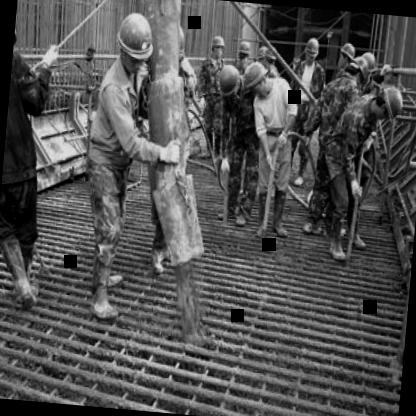helmet: (114, 9, 158, 72), (242, 60, 276, 104), (375, 84, 406, 128), (216, 63, 244, 104), (11, 0, 26, 64), (346, 54, 372, 88), (303, 34, 322, 67), (338, 40, 357, 70), (361, 50, 379, 80), (208, 33, 226, 60), (236, 38, 250, 66)
